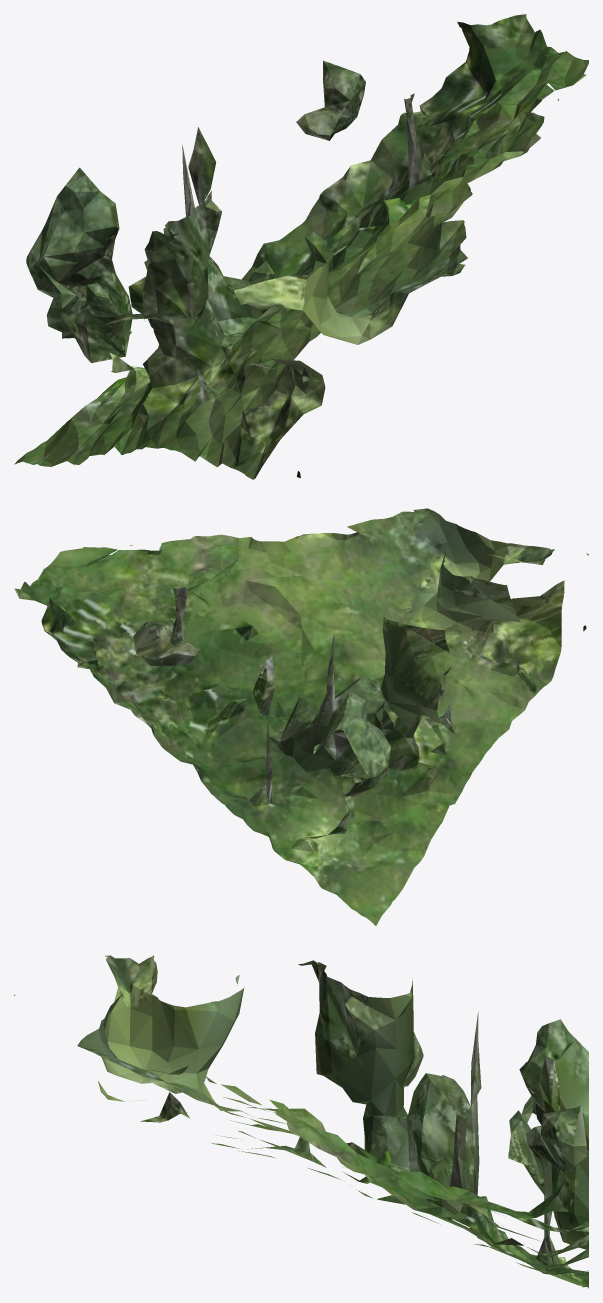
3 renders of one model, top to bottom at view 1: azimuth 30°, elevation 25°; view 2: azimuth 150°, elevation 25°; view 3: azimuth 270°, elevation 25°, orthographic. The views are drawn at different scales.
Size of the model in its own units: 26.11 by 16.62 by 26.11.
Materials: 4 (4 with a texture image).
